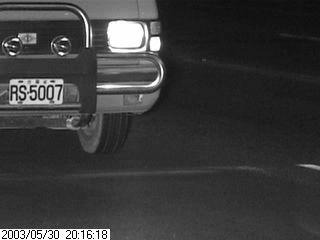plate: (6, 76, 64, 105)
